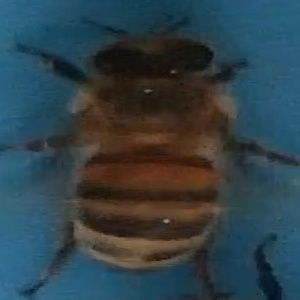bee: (12, 12, 265, 300)
